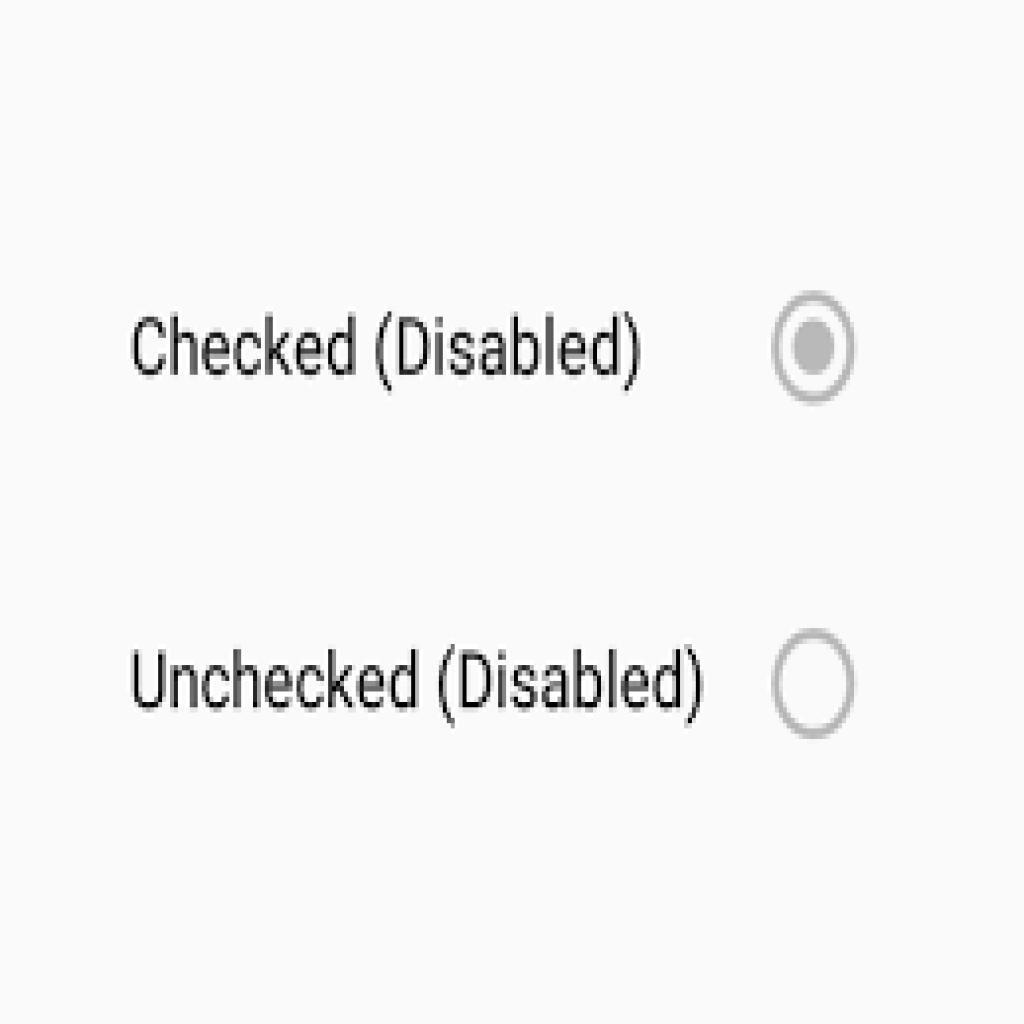label: (122, 644, 704, 731), (122, 307, 647, 399)
radio: (772, 289, 860, 408), (767, 628, 858, 743)
